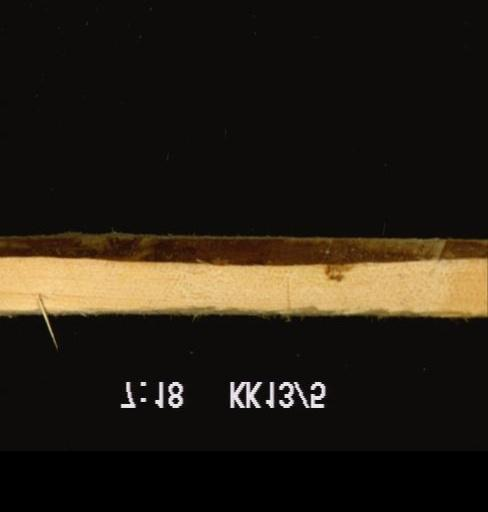wave: (0, 229, 486, 273)
